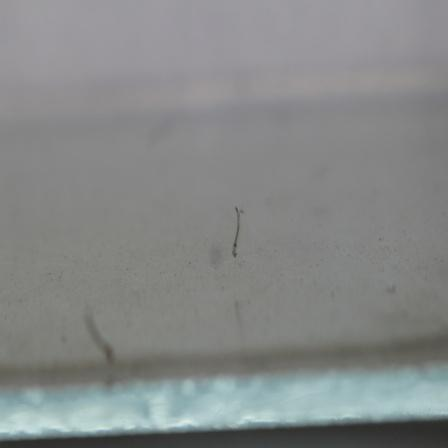Jentik-Nyamuk: (228, 203, 248, 261)
